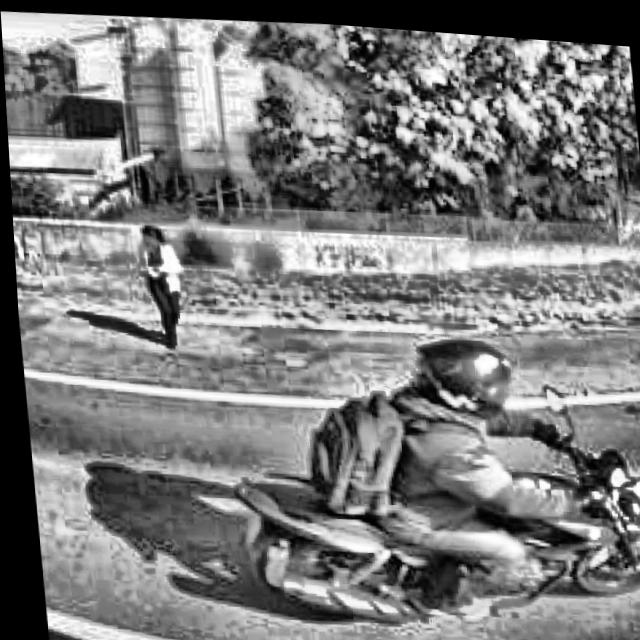motorcycle: (210, 360, 640, 640)
